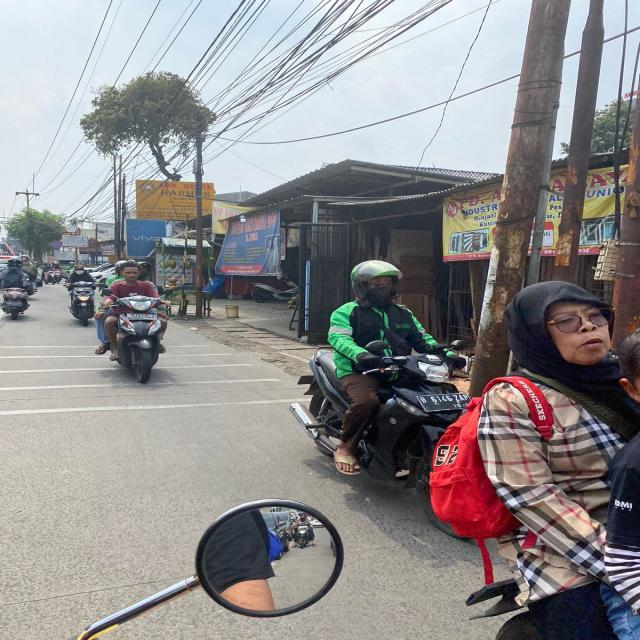Helmet: (351, 260, 401, 299), (114, 260, 127, 273), (138, 261, 151, 272), (7, 257, 21, 267)
Number Plate: (417, 393, 469, 411), (127, 313, 156, 320)
Rearview Mirror: (77, 500, 342, 639), (196, 501, 342, 616), (365, 340, 387, 355), (450, 339, 465, 349), (102, 287, 111, 295)
